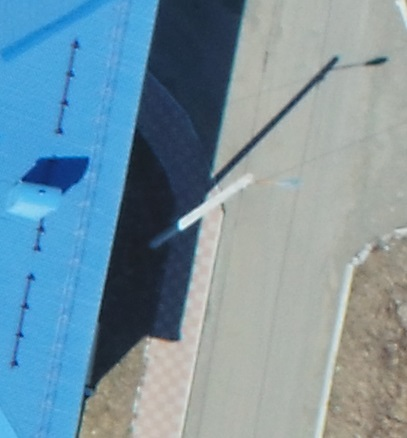opora: (146, 148, 306, 246)
